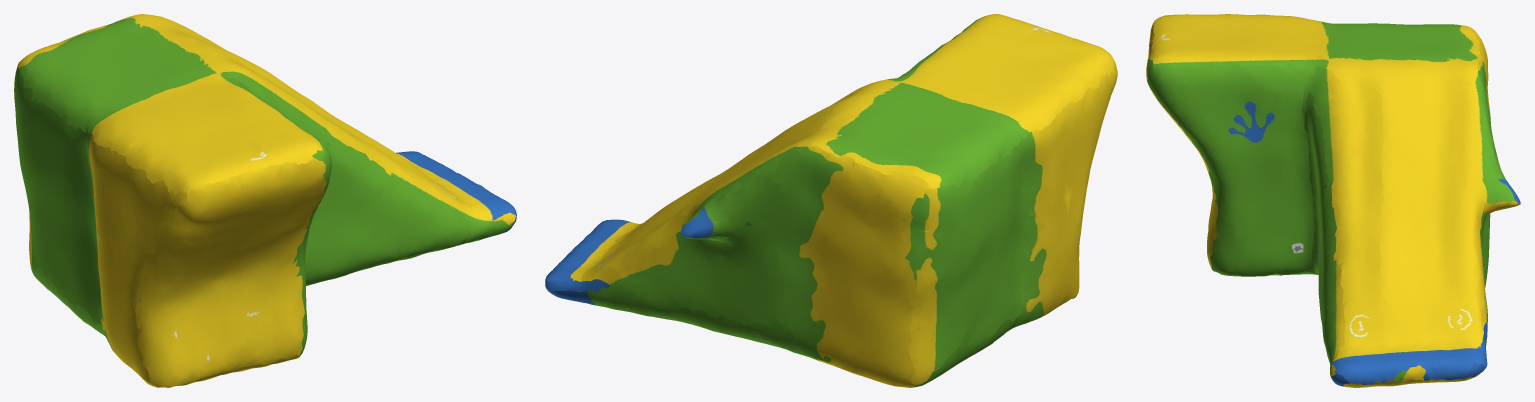
File: actiontower-xxl.glb
3 renders of one model, left to right at view 1: azimuth 30°, elevation 25°; view 2: azimuth 150°, elevation 25°; view 3: azimuth 270°, elevation 25°, orthographic. The views are drawn at different scales.
Parts seen in each view (by area): view 1: geometry_0; view 2: geometry_0; view 3: geometry_0.
Boxes of the visible parts, x1,y1,x2,y2 form: geometry_0: [14, 14, 516, 387]; geometry_0: [545, 14, 1117, 387]; geometry_0: [1146, 14, 1520, 387].
Size of the model in its own units: 0.9328 by 0.4782 by 0.7781.
1 material, 1 textured.
